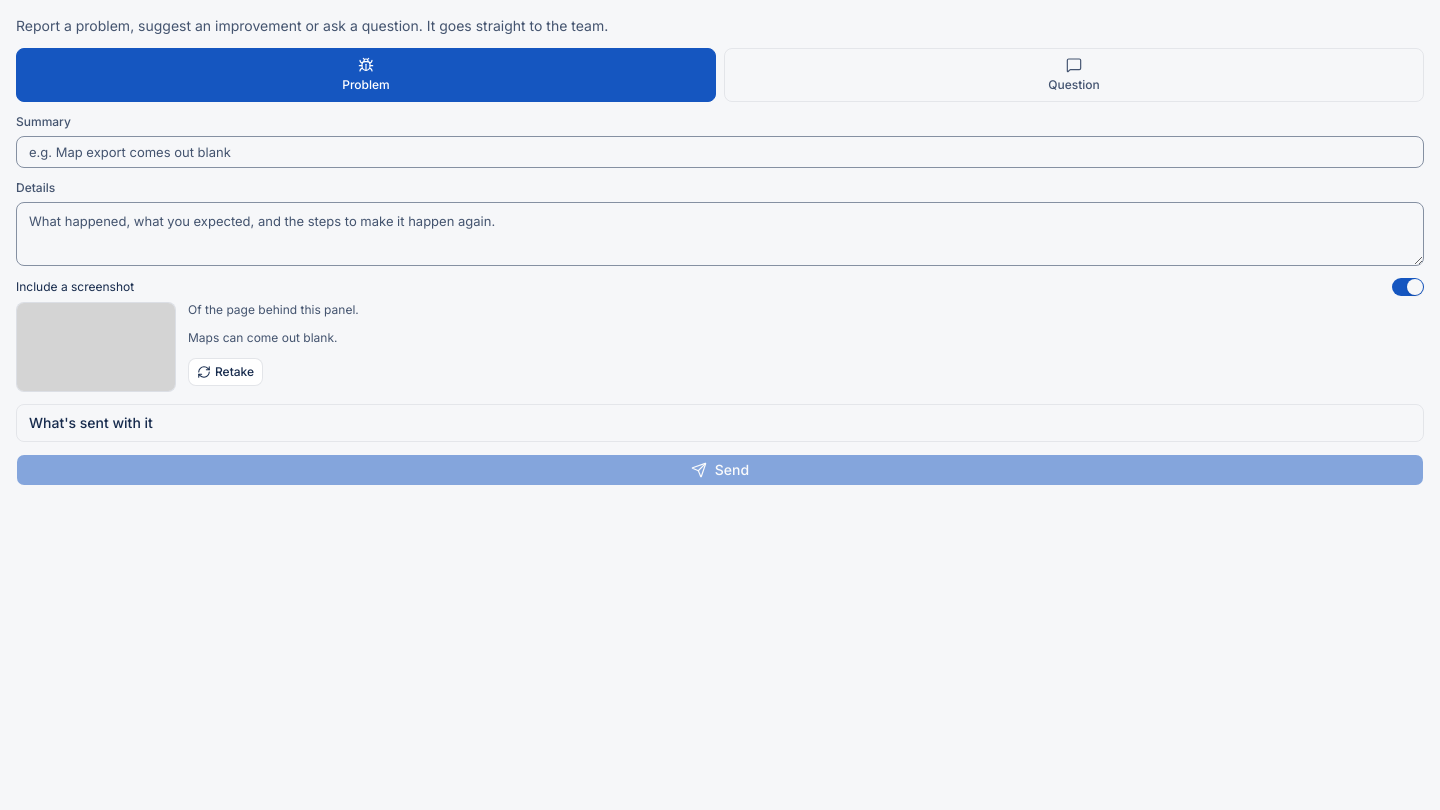
Test: Feedback types › offers only the types that are on, and says where each goes
Expected: the radio buttons read "Problem", "Question", in this order, [16,48,716,102]; [724,48,1424,102]
Click the button "What's sent with it": (91, 423) [17,405,1423,441]
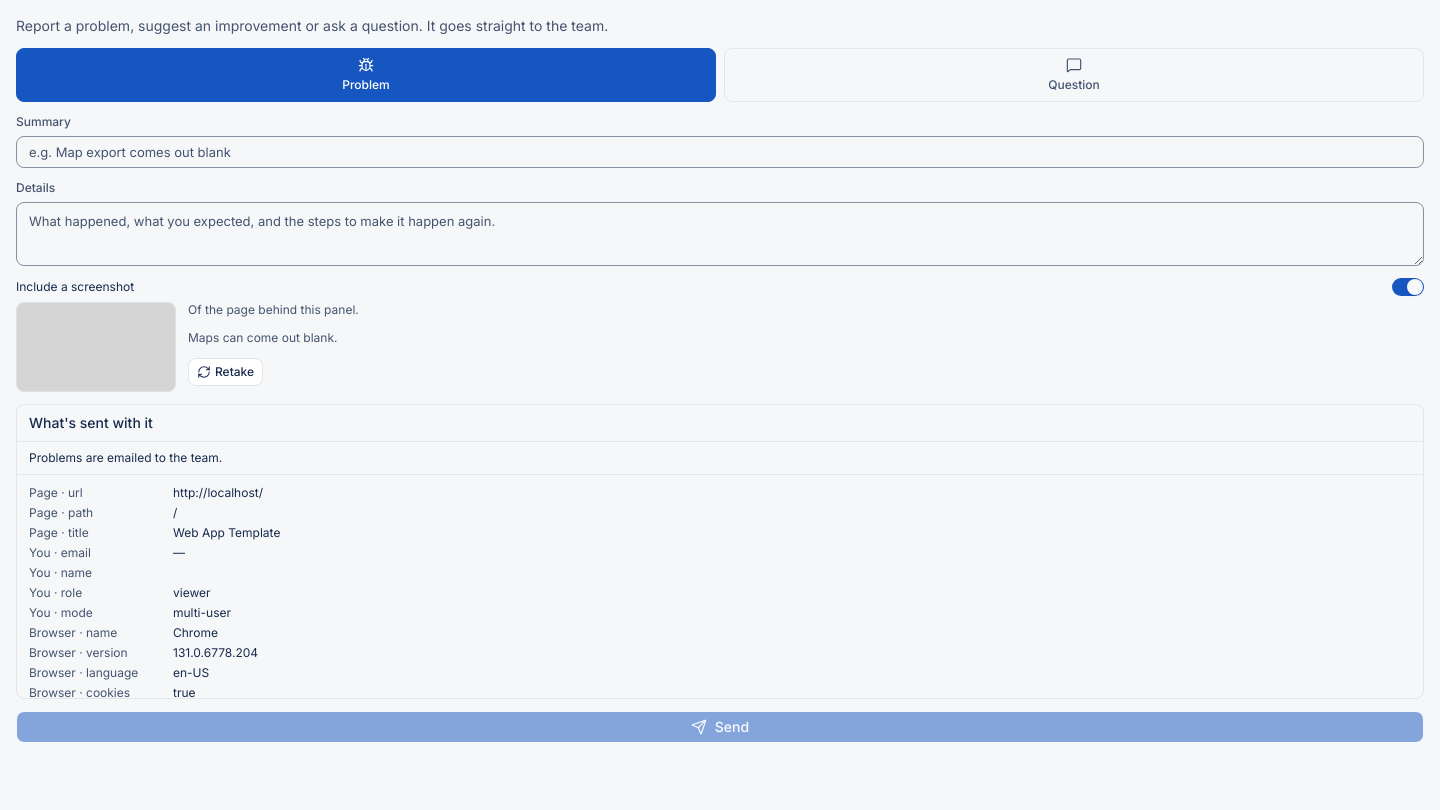
Expected: the text "Problems are emailed to the team." is shown, [17,441,1423,474]
Click the radio button labelled "Question": (1074, 75) [724,48,1424,102]
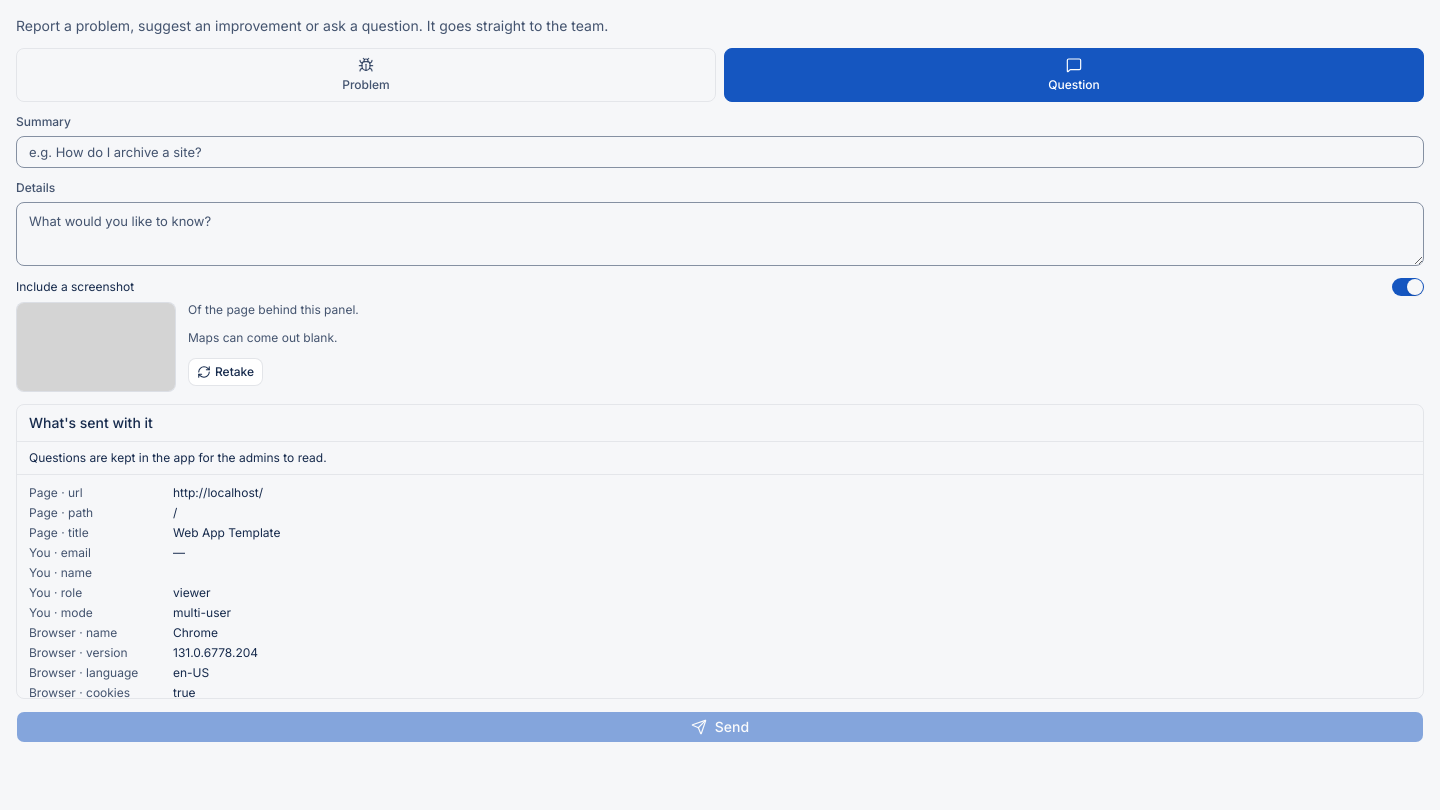
Expected: the text "Questions are kept in the app for the admins to read." is shown, [17,441,1423,474]
